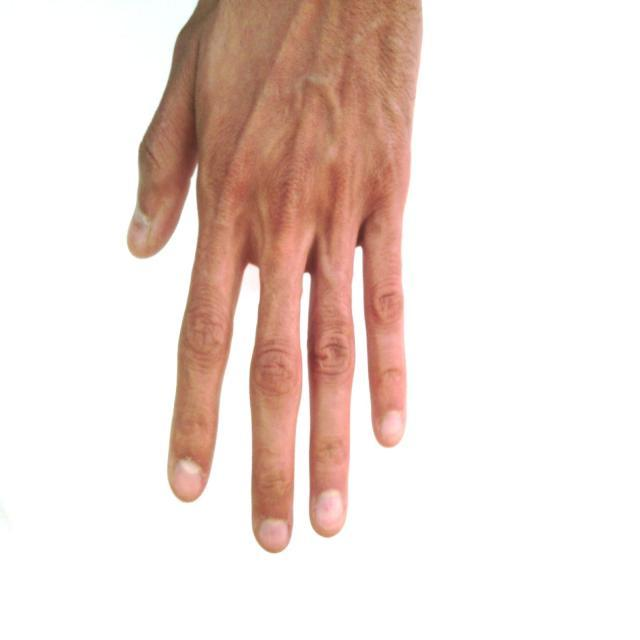Fingernail: (315, 491, 343, 529), (176, 461, 203, 497), (260, 520, 287, 547), (130, 209, 148, 245), (382, 411, 402, 439)
